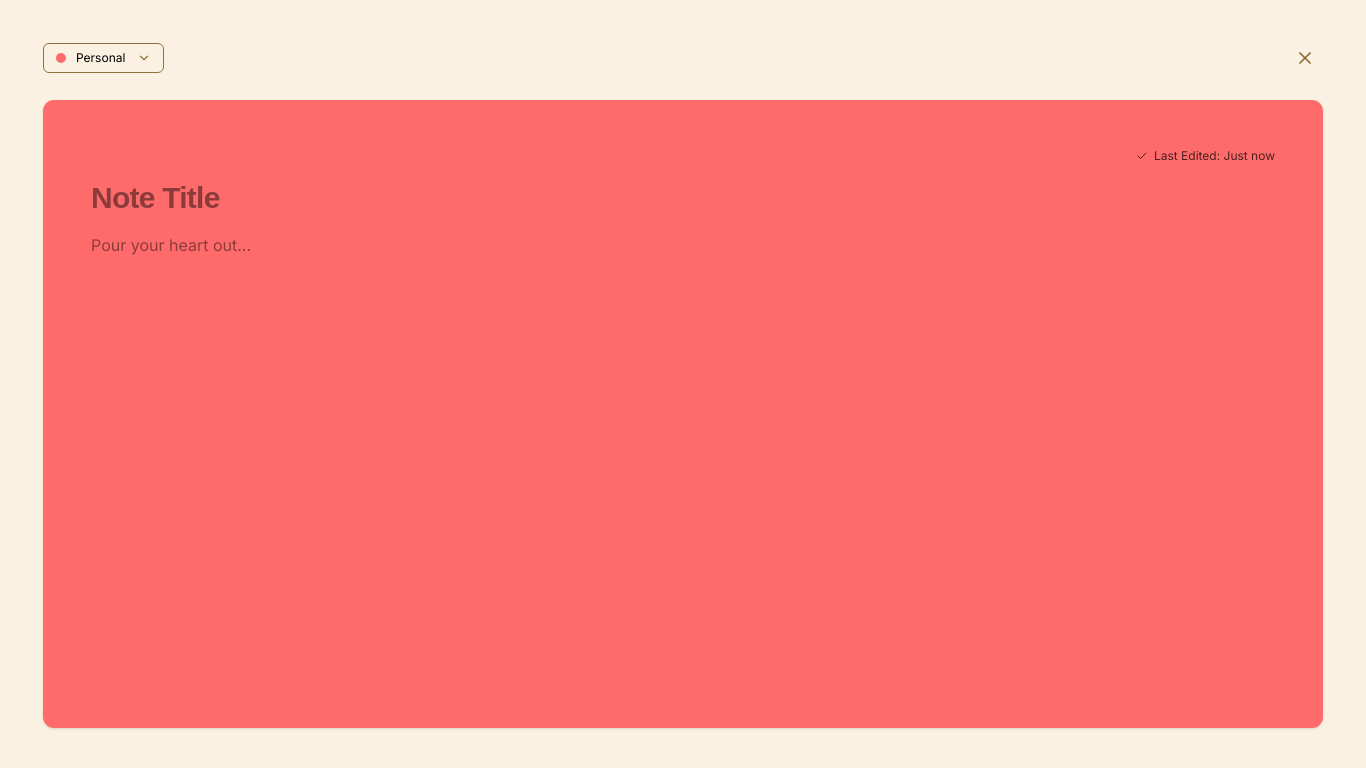
Scenario: NoteEditorModal › changes category dropdown selection
This screenshot has width=1366, height=768.
Click the button with aria-label "category selector" at (104, 58), box [43,43,164,73]
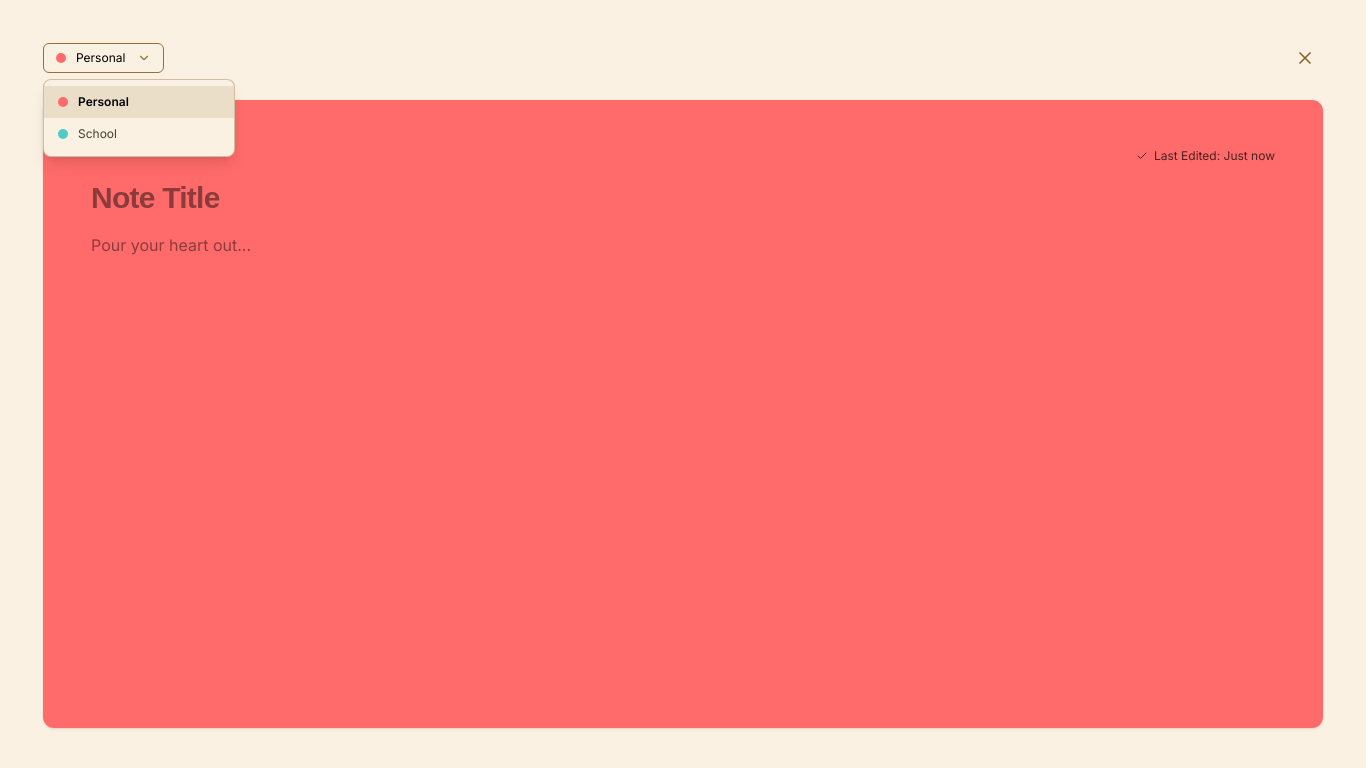
Click the button "School" at (139, 134), box [44,118,234,150]
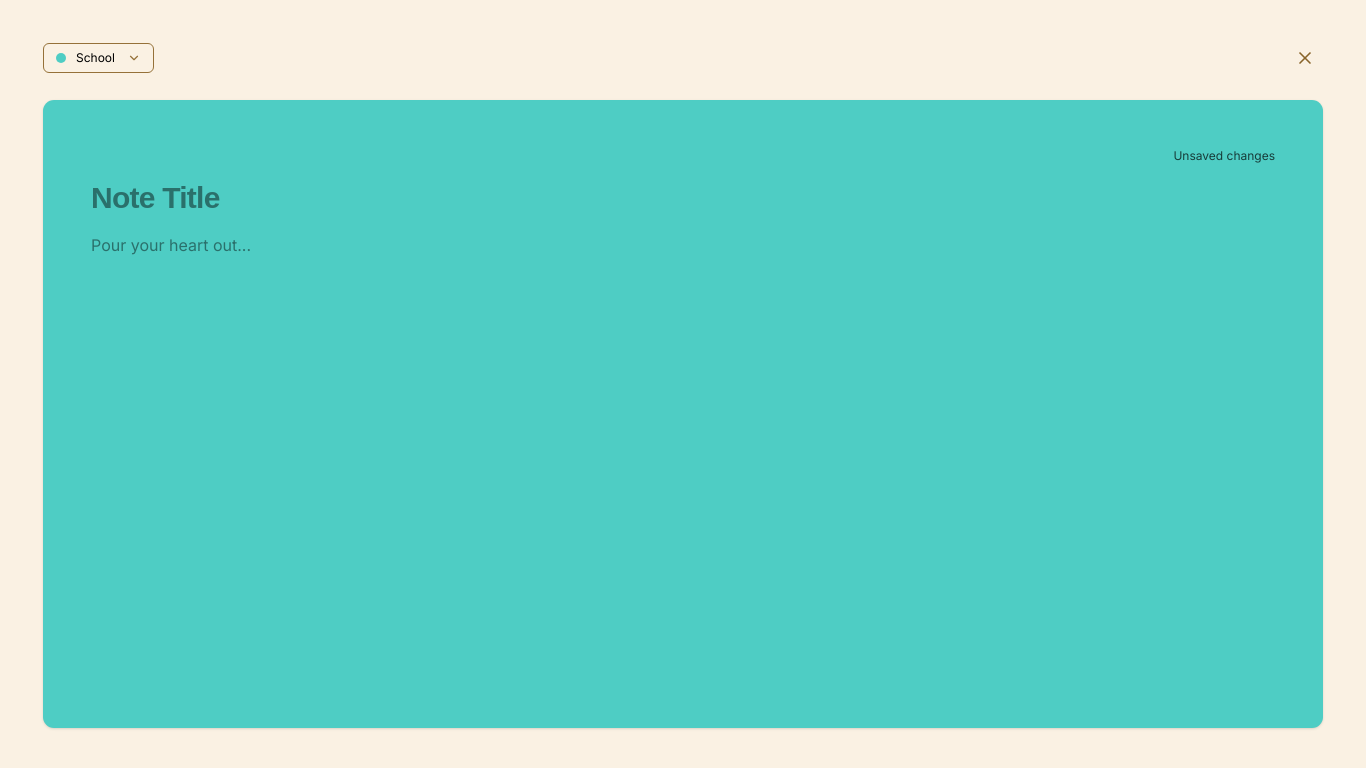
Now the button with aria-label "category selector" reads "School", box [43,43,154,73]
